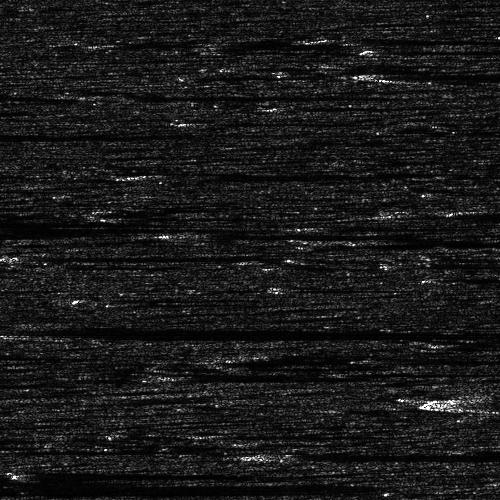rock: (458, 292, 500, 303), (0, 328, 47, 337), (0, 252, 38, 261)
shadow: (1, 328, 431, 337), (12, 252, 264, 261)
